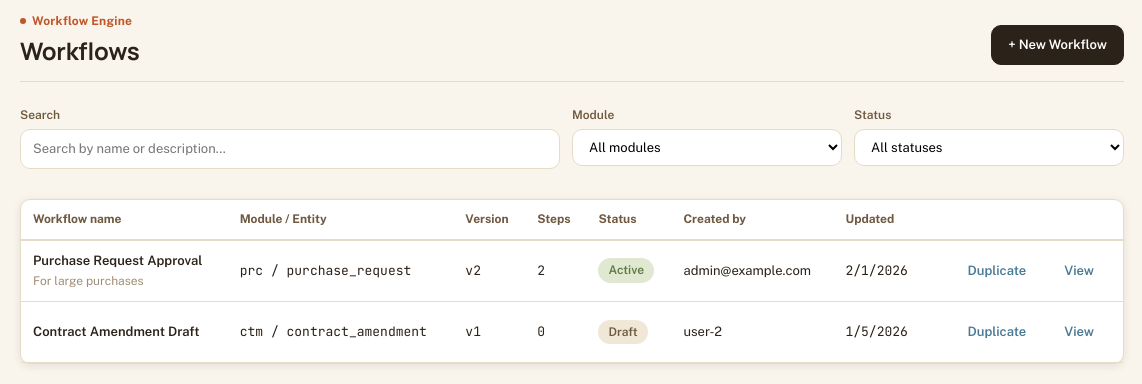
WorkflowListPage › shows the real empty state when nothing matches
The width and height of the screenshot is (1142, 384).
Expected: the text "Purchase Request Approval" is shown, [33,251,216,272]
In the field with placeholder "Search by name or description…": (290,149) [20,129,560,169], type "nothing matches this at all"
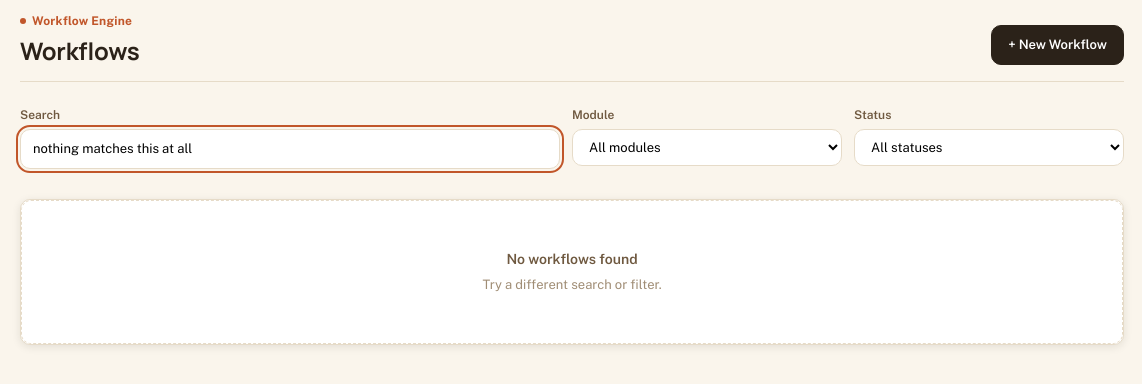
Result: the text "No workflows found" is shown at [506,251,638,267]
